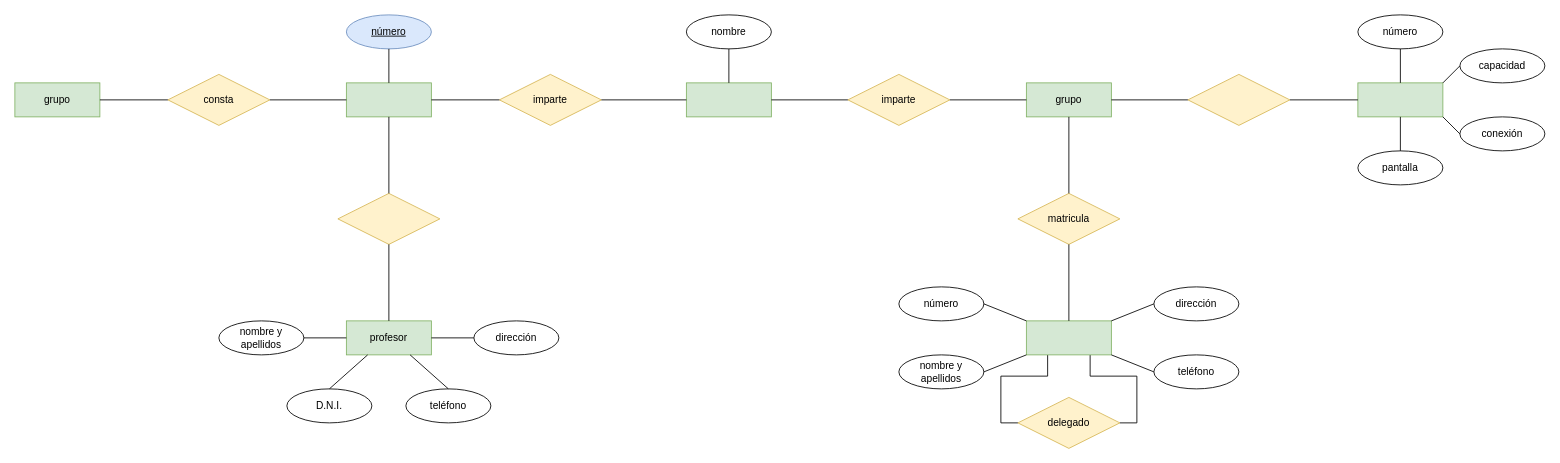
Image size: 1560x463. Some labels were removed from this diagram. The shapes that lost their labels are listed below. From the top down, each one's centre as x and y in pixels, then its label:
At point (388, 99): "curso".
At point (728, 99): "asignatura".
At point (1238, 99): "ubica".
At point (1400, 99): "aula".
At point (388, 218): "coordina".
At point (1068, 337): "alumno".
